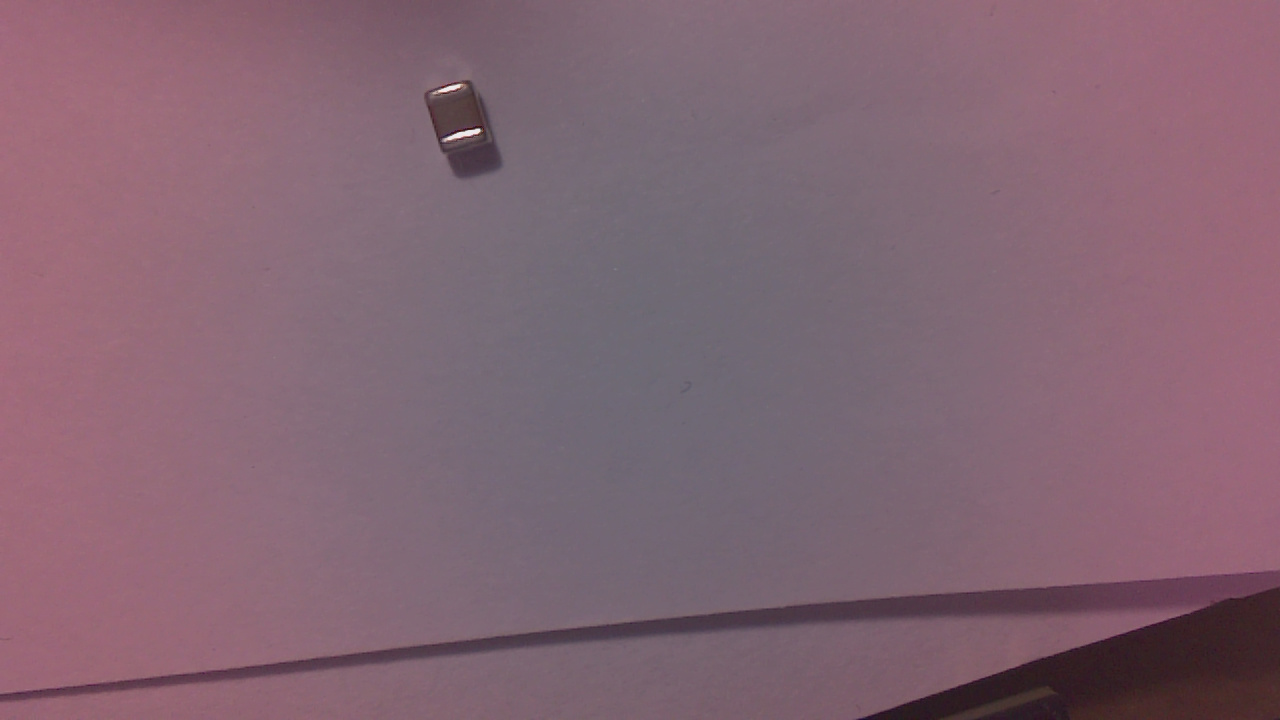Condensator: (431, 85, 494, 162)
